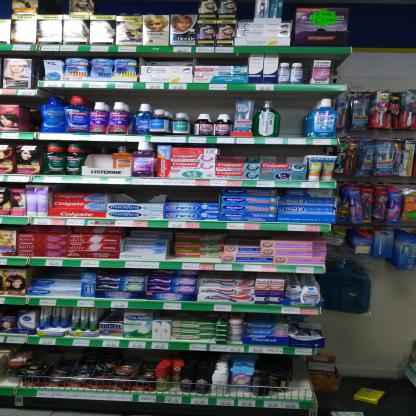Void: (335, 318, 399, 370), (386, 270, 411, 308), (282, 96, 302, 135), (176, 187, 214, 202), (160, 312, 218, 320), (106, 194, 160, 202), (201, 58, 242, 64), (38, 270, 78, 276), (231, 233, 252, 242), (106, 309, 121, 321)
